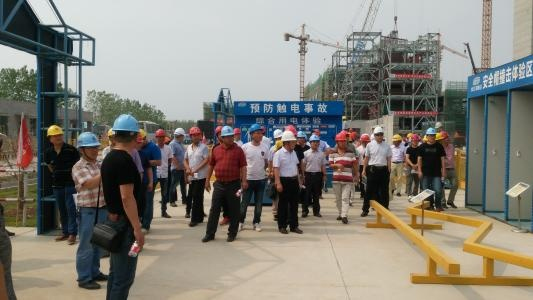blue: (110, 112, 140, 149), (74, 129, 101, 163), (220, 123, 235, 147), (248, 120, 263, 144), (423, 126, 437, 146), (307, 133, 320, 151)
red: (187, 125, 202, 147), (333, 133, 348, 150), (154, 126, 166, 145), (409, 133, 418, 146)
white: (280, 130, 296, 150), (172, 125, 186, 143), (372, 125, 384, 144)
yellow: (45, 122, 65, 148), (391, 132, 403, 148)
